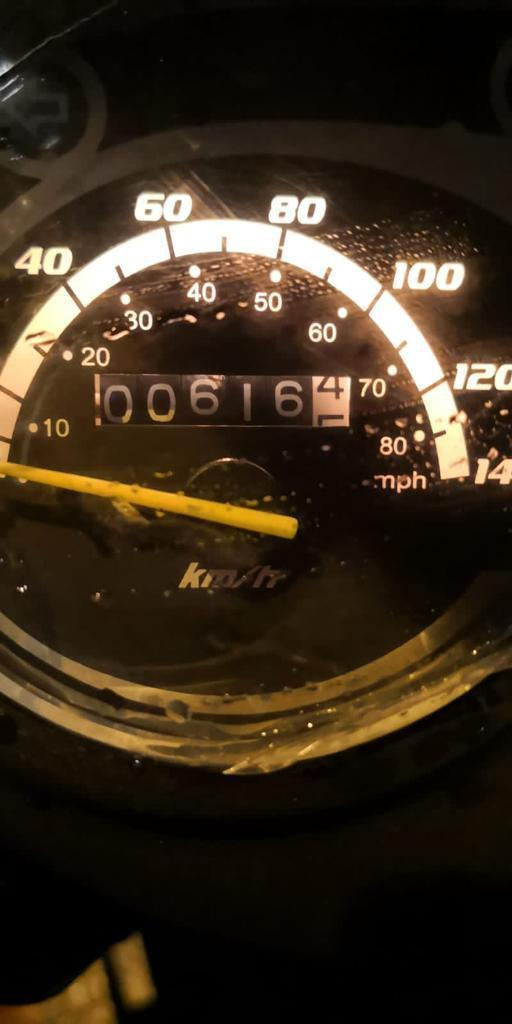0: (103, 382, 134, 425), (146, 382, 177, 424)
1: (241, 381, 252, 423)
4: (316, 368, 344, 399)
6: (273, 377, 304, 419), (189, 377, 220, 417)
odometer: (90, 368, 354, 432)
